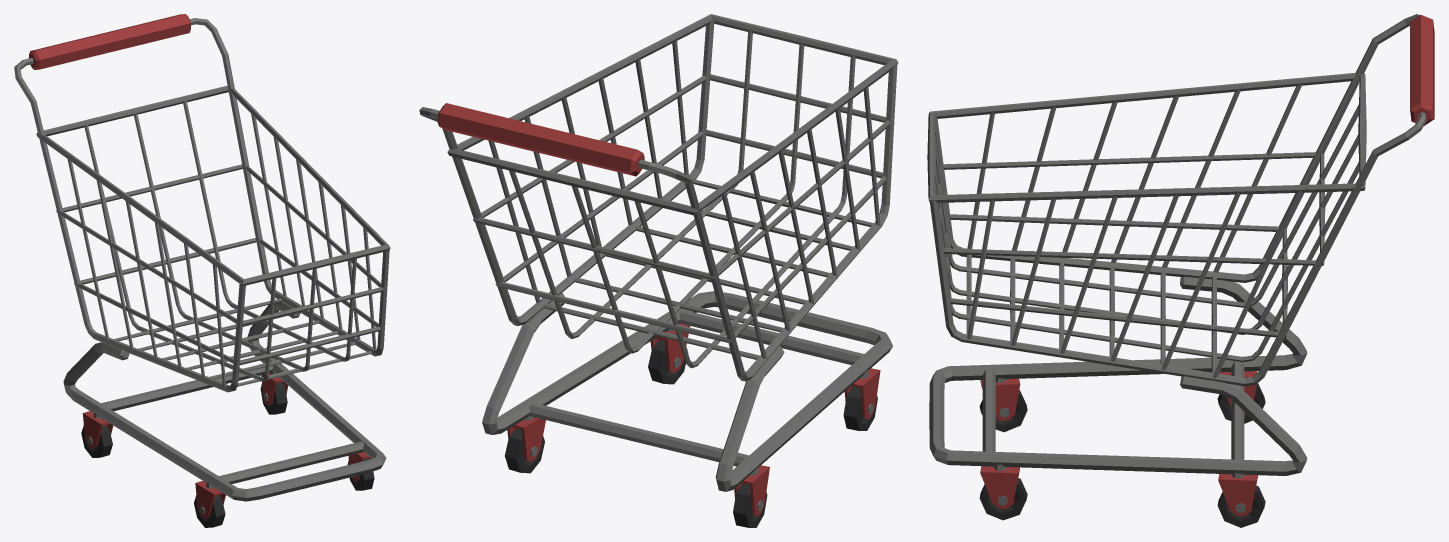
Rendered from SM_Props_Interior_SuperMarket_Trolly.fbx.
The picture shows the model from 3 angles, left to right: view 1: azimuth 30°, elevation 25°; view 2: azimuth 150°, elevation 25°; view 3: azimuth 270°, elevation 25°; orthographic projection. The views are drawn at different scales.
Visible parts, largest first — view 1: SM_Props_Interior_SuperMarket_Trolly; view 2: SM_Props_Interior_SuperMarket_Trolly; view 3: SM_Props_Interior_SuperMarket_Trolly.
Boxes of the visible parts, box(x1,y1,x2,y2) form: SM_Props_Interior_SuperMarket_Trolly: box(14, 14, 390, 527); SM_Props_Interior_SuperMarket_Trolly: box(419, 14, 898, 527); SM_Props_Interior_SuperMarket_Trolly: box(927, 14, 1434, 527).
Size of the model in its own units: 62.15 by 103 by 114.
